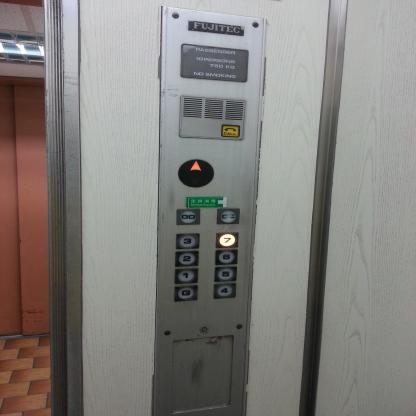1: (174, 268, 199, 284)
2: (175, 251, 199, 266)
3: (175, 232, 199, 249)
4: (213, 282, 237, 300)
5: (214, 266, 237, 282)
6: (215, 250, 238, 264)
7: (214, 231, 238, 249)
DO: (176, 208, 202, 226)
G: (174, 285, 199, 302)
call: (220, 123, 241, 139)
led: (176, 158, 216, 188)
unknown: (218, 209, 240, 226)
